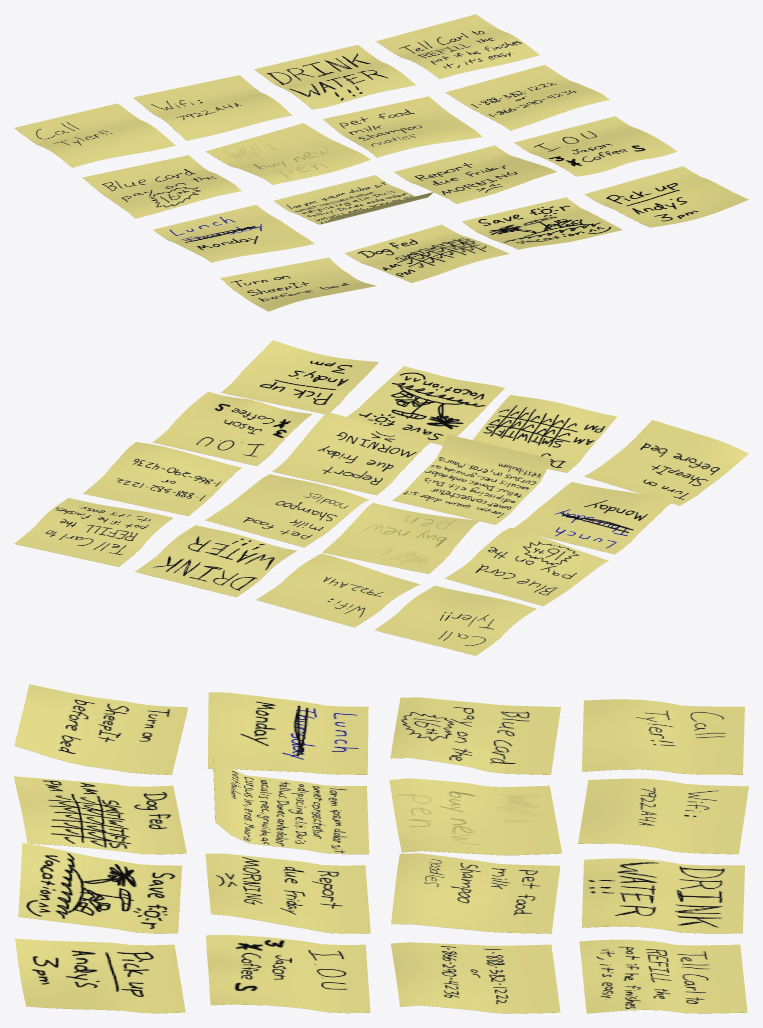
Rendered from sticky_notes.glb.
3 renders of one model, top to bottom at view 1: azimuth 30°, elevation 25°; view 2: azimuth 150°, elevation 25°; view 3: azimuth 270°, elevation 25°, orthographic. The views are drawn at different scales.
Visible parts, largest first — view 1: StickyNote.013, StickyNote.015, StickyNote.012, StickyNote.014, StickyNote.003, StickyNote.011, StickyNote.009, StickyNote.008, StickyNote.010, StickyNote.007, StickyNote.004, StickyNote.006 (+4 smaller); view 2: StickyNote.005, StickyNote, StickyNote.006, StickyNote.002, StickyNote.008, StickyNote.011, StickyNote.007, StickyNote.010, StickyNote.004, StickyNote.003, StickyNote.009, StickyNote.014 (+4 smaller); view 3: StickyNote.004, StickyNote.009, StickyNote.010, StickyNote.002, StickyNote.015, StickyNote.012, StickyNote.014, StickyNote, StickyNote.007, StickyNote.003, StickyNote.013, StickyNote.001 (+4 smaller).
Boxes of the visible parts, x1,y1,x2,y2 form: StickyNote.013: (133, 75, 292, 140); StickyNote.015: (376, 14, 539, 78); StickyNote.012: (14, 103, 175, 167); StickyNote.014: (254, 45, 415, 109); StickyNote.003: (584, 166, 748, 227); StickyNote.011: (445, 65, 609, 130); StickyNote.009: (206, 123, 370, 184); StickyNote.008: (82, 155, 241, 218); StickyNote.010: (323, 96, 481, 157); StickyNote.007: (514, 116, 676, 176); StickyNote.004: (153, 205, 314, 262); StickyNote.006: (394, 145, 556, 203); StickyNote.005: (392, 434, 550, 524); StickyNote: (584, 420, 748, 505); StickyNote.006: (272, 412, 431, 495); StickyNote.002: (347, 366, 504, 445); StickyNote.008: (445, 527, 608, 605); StickyNote.011: (83, 442, 241, 515); StickyNote.007: (152, 391, 312, 465); StickyNote.010: (205, 474, 368, 547); StickyNote.004: (513, 482, 673, 554); StickyNote.003: (221, 340, 378, 414); StickyNote.009: (322, 502, 479, 573); StickyNote.014: (135, 525, 296, 597); StickyNote.004: (207, 692, 368, 774); StickyNote.009: (389, 778, 561, 855); StickyNote.010: (391, 853, 560, 933); StickyNote.002: (18, 843, 182, 933); StickyNote.015: (579, 939, 747, 1013); StickyNote.012: (582, 699, 744, 774); StickyNote.014: (581, 858, 744, 933); StickyNote: (14, 684, 188, 774); StickyNote.007: (206, 934, 370, 1013); StickyNote.003: (15, 938, 185, 1013); StickyNote.013: (578, 778, 748, 854); StickyNote.001: (14, 776, 186, 854).
Size of the model in its own units: 0.3546 by 0.0173 by 0.3477.
16 materials, 16 textured.
